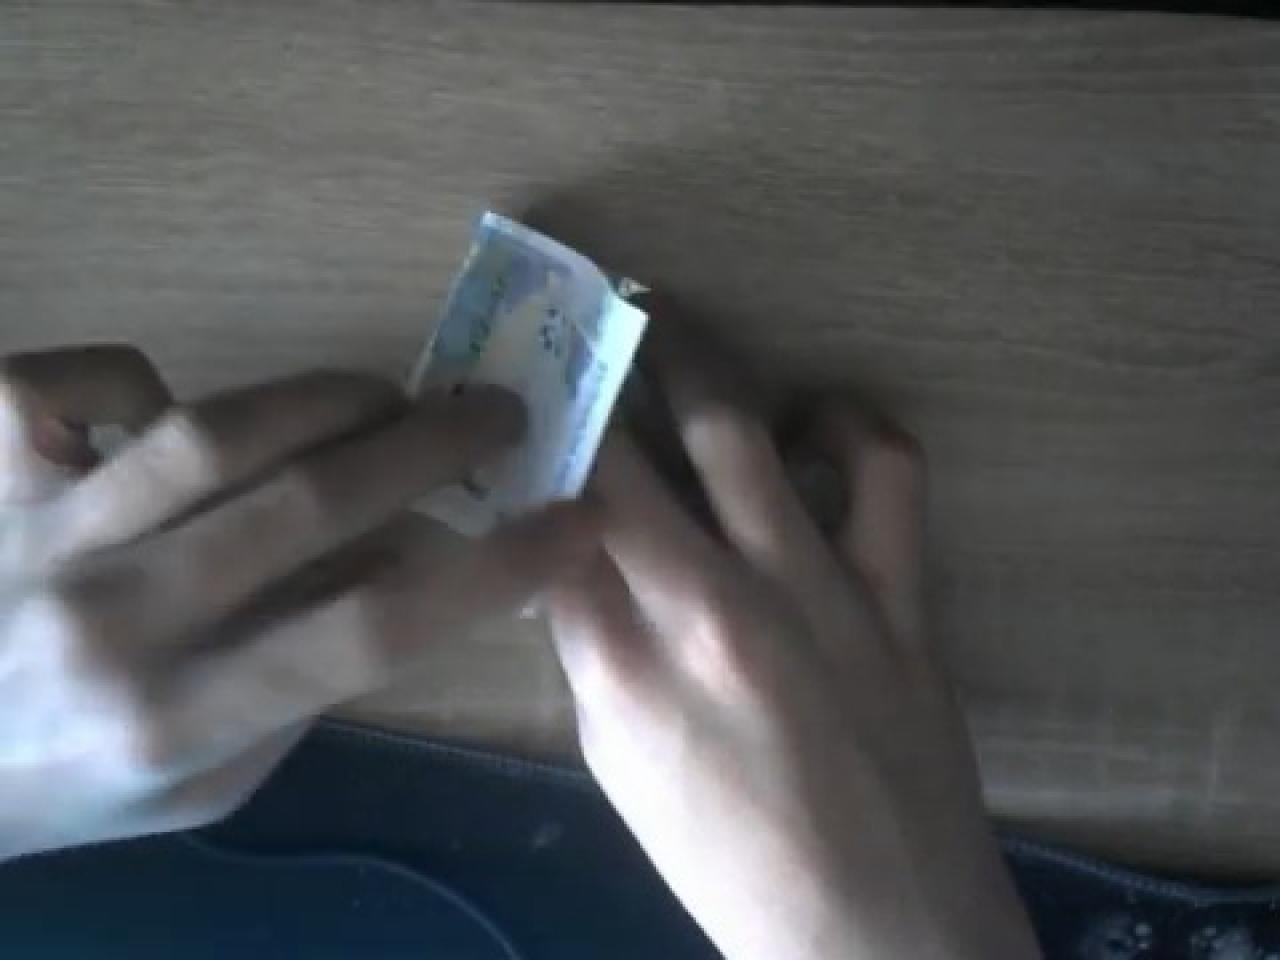20leva: (405, 206, 653, 533)
